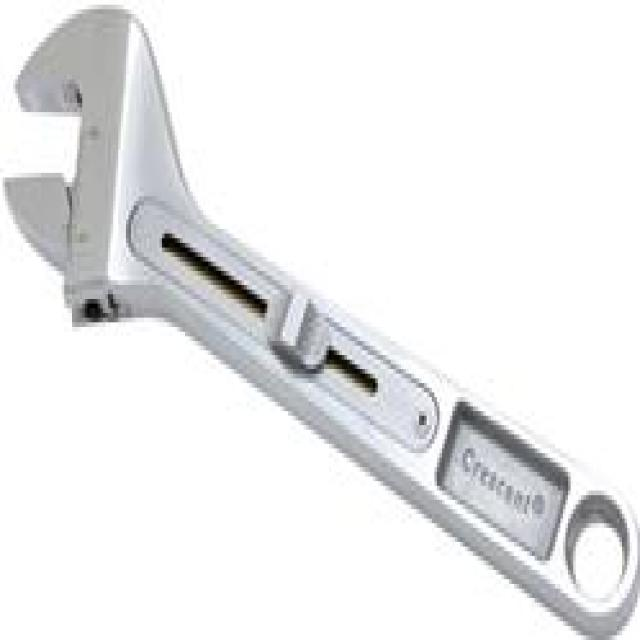wrench: (4, 0, 640, 607)
